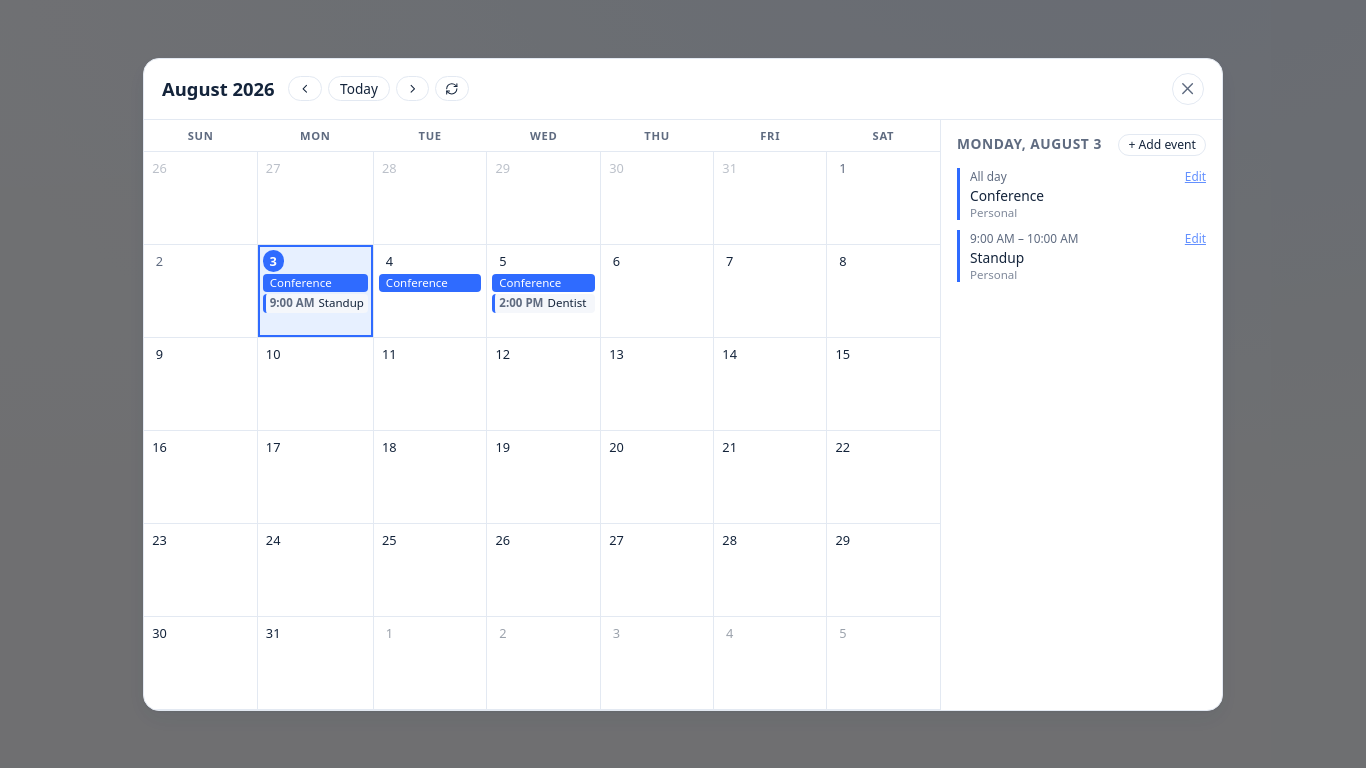
CalendarModal month grid › shows a day’s events in the detail panel when it is clicked
Step 1. Click the button with aria-label "Wednesday, August 5, 2026" → [544, 290], box 487,244 -> 600,336
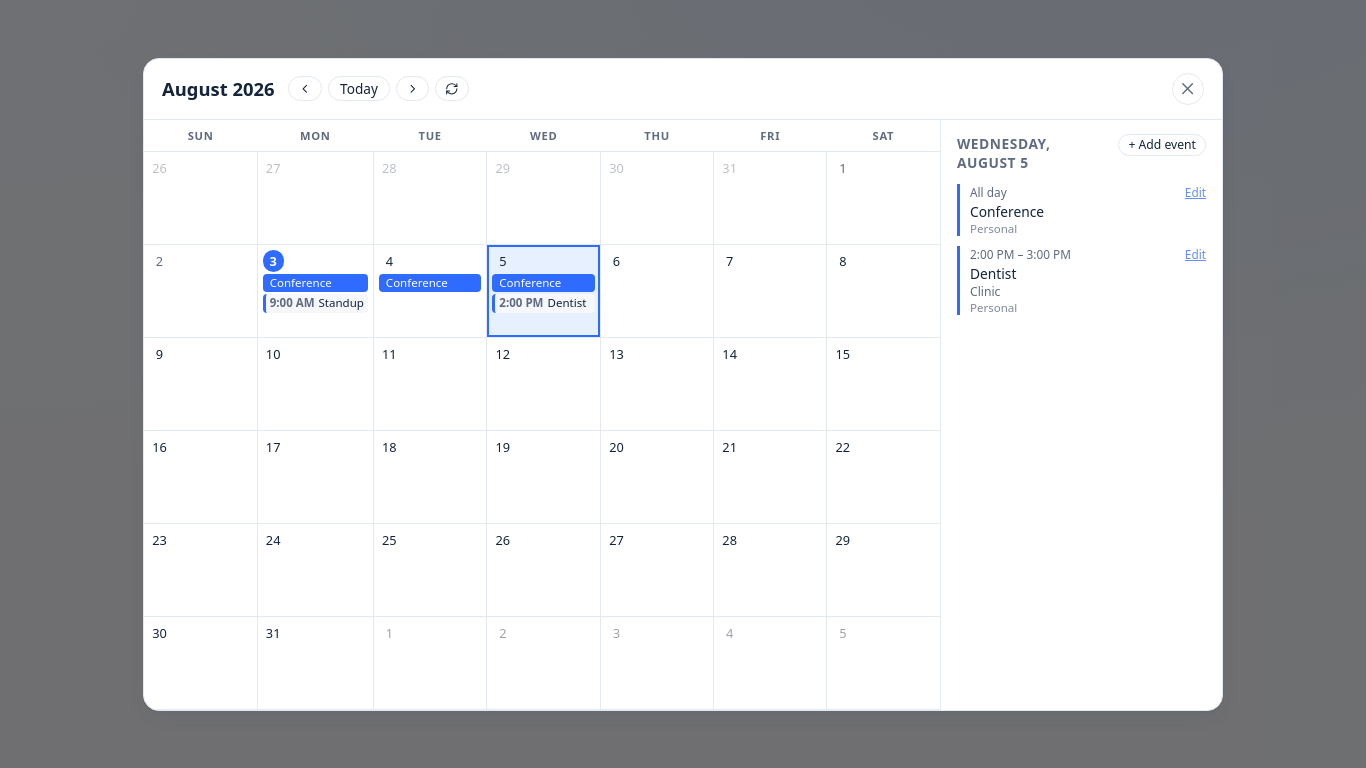
expect the heading "Wednesday, August 5" is shown: met, box 957,134 -> 1050,172
expect the link "Dentist" is shown: met, box 970,264 -> 1016,282
expect the text "Clinic" is shown: met, box 970,282 -> 1000,300
